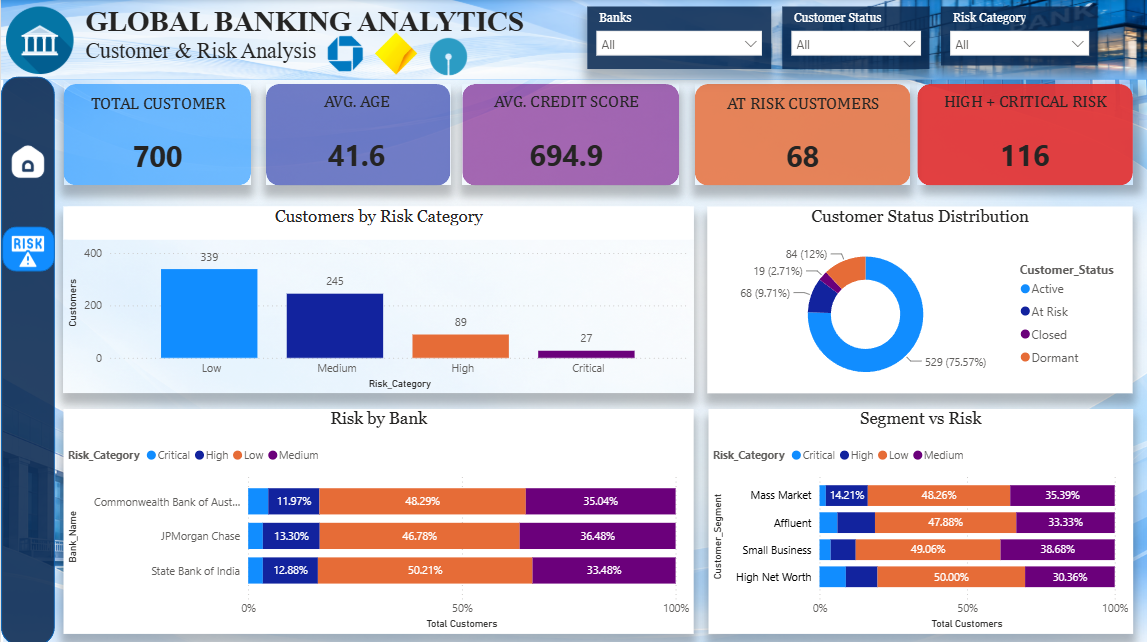

The dashboard page shown, as its layout file describes it:
{"tool":"powerbi","page":{"name":"Customer & Risk Analysis","canvas":[1280,720],"ordinal":1},"visuals":[{"type":"image","box":[0,1.4,1280.6,717.9],"z":0},{"type":"image","box":[0,0,1280.6,89.6],"z":1000},{"type":"shape","box":[1020.6,94.9,240.1,113.1],"z":2000},{"type":"shape","box":[772.1,94.9,240.1,113.1],"z":3000},{"type":"shape","box":[513.8,94.9,241.5,113.1],"z":4000},{"type":"shape","box":[294.6,94.9,205.2,113.1],"z":5000},{"type":"shape","box":[69.8,94.9,208.7,112.7],"z":6000},{"type":"cardVisual","title":"TOTAL CUSTOMER","fields":{"Data":["Banking.Total Customers"]},"box":[79.1,104.5,190.7,104.3],"z":7000},{"type":"cardVisual","title":"AVG. AGE","fields":{"Data":["Banking.Average Age"]},"box":[300.2,103.3,190.7,104.3],"z":8000},{"type":"cardVisual","title":"AVG. CREDIT SCORE","fields":{"Data":["Banking.Average Credit Score"]},"box":[525,103.3,209.4,104.7],"z":9000},{"type":"cardVisual","title":"AT RISK CUSTOMERS","fields":{"Data":["Banking.At Risk Customers"]},"box":[797.2,104.7,190.7,104.3],"z":10000},{"type":"cardVisual","title":"HIGH + CRITICAL RISK","fields":{"Data":["Banking.High Critical Risk"]},"box":[1032.8,103,214.9,104.5],"z":11000},{"type":"columnChart","title":"Customers by Risk Category","fields":{"Category":["Banking.Risk_Category"],"Y":["Banking.Total Customers"]},"box":[69.9,230.6,701.6,208.3],"z":12000},{"type":"donutChart","title":"Customer Status Distribution","fields":{"Y":["Banking.Total Customers"],"Series":["Banking.Customer_Status"]},"box":[786.9,230.6,473.8,208.3],"z":13000},{"type":"hundredPercentStackedBarChart","title":"Segment vs Risk","fields":{"Category":["Banking.Customer_Segment"],"Y":["Banking.Total Customers"],"Series":["Banking.Risk_Category"]},"box":[788.3,457,472.4,250.2],"z":14000},{"type":"slicer","fields":{"Values":["Banking.Bank_Name"]},"box":[652.7,8.3,204.6,69.6],"z":15000},{"type":"slicer","fields":{"Values":["Banking.Risk_Category"]},"box":[1046.3,9,174.6,65.7],"z":16000},{"type":"slicer","fields":{"Values":["Banking.Customer_Status"]},"box":[869.8,8.3,164.2,69.6],"z":17000},{"type":"textbox","box":[89.1,1.4,588.1,88.1],"z":18000},{"type":"hundredPercentStackedBarChart","title":"Risk by Bank","fields":{"Series":["Banking.Risk_Category"],"Category":["Banking.Bank_Name"],"Y":["Banking.Total Customers"]},"box":[69.9,457,701.6,250.2],"z":19000},{"type":"image","box":[331.2,39,103.4,43.3],"z":20000},{"type":"image","box":[388.3,36.2,103.4,48.9],"z":21000},{"type":"image","box":[434.2,36.2,128.6,55.9],"z":22000},{"type":"image","box":[0,8.3,86.3,75.1],"z":23000},{"type":"shape","box":[0,86.3,59.8,633.2],"z":24000},{"type":"image","box":[0,161.4,59.8,39],"z":25000},{"type":"shape","box":[1.4,253.3,58.4,50.1],"z":26000},{"type":"image","box":[0,263,59.8,36.2],"z":27000}]}

Visuals, with their boxes on the page's 1280x720 design canvas (x1, y1, x2, y2). These are canvas units, not pixel positions in the 1147x642 screenshot, which may show the page scaled, cropped or inside an application window:
image: (left=0, top=1, right=1281, bottom=719)
image: (left=0, top=0, right=1281, bottom=90)
shape: (left=1021, top=95, right=1261, bottom=208)
shape: (left=772, top=95, right=1012, bottom=208)
shape: (left=514, top=95, right=755, bottom=208)
shape: (left=295, top=95, right=500, bottom=208)
shape: (left=70, top=95, right=278, bottom=208)
"TOTAL CUSTOMER" cardVisual: (left=79, top=104, right=270, bottom=209)
"AVG. AGE" cardVisual: (left=300, top=103, right=491, bottom=208)
"AVG. CREDIT SCORE" cardVisual: (left=525, top=103, right=734, bottom=208)
"AT RISK CUSTOMERS" cardVisual: (left=797, top=105, right=988, bottom=209)
"HIGH + CRITICAL RISK" cardVisual: (left=1033, top=103, right=1248, bottom=208)
"Customers by Risk Category" columnChart: (left=70, top=231, right=772, bottom=439)
"Customer Status Distribution" donutChart: (left=787, top=231, right=1261, bottom=439)
"Segment vs Risk" hundredPercentStackedBarChart: (left=788, top=457, right=1261, bottom=707)
slicer - Banking.Bank_Name: (left=653, top=8, right=857, bottom=78)
slicer - Banking.Risk_Category: (left=1046, top=9, right=1221, bottom=75)
slicer - Banking.Customer_Status: (left=870, top=8, right=1034, bottom=78)
textbox: (left=89, top=1, right=677, bottom=90)
"Risk by Bank" hundredPercentStackedBarChart: (left=70, top=457, right=772, bottom=707)
image: (left=331, top=39, right=435, bottom=82)
image: (left=388, top=36, right=492, bottom=85)
image: (left=434, top=36, right=563, bottom=92)
image: (left=0, top=8, right=86, bottom=83)
shape: (left=0, top=86, right=60, bottom=720)
image: (left=0, top=161, right=60, bottom=200)
shape: (left=1, top=253, right=60, bottom=303)
image: (left=0, top=263, right=60, bottom=299)
